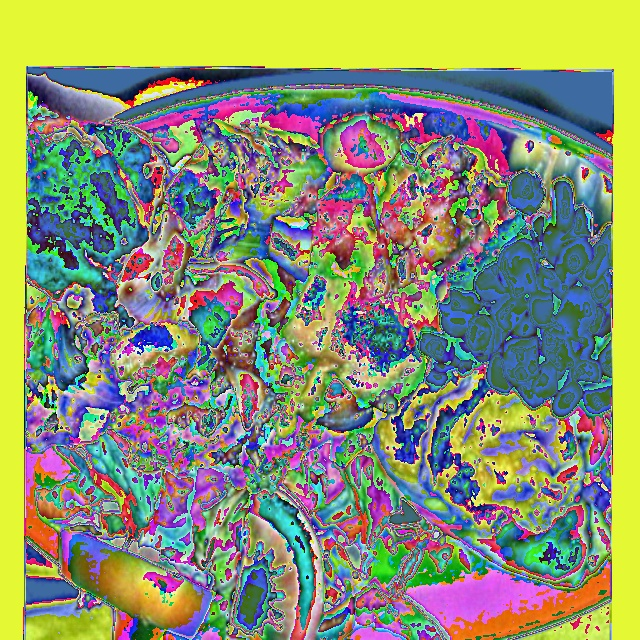background: (25, 104, 612, 639)
